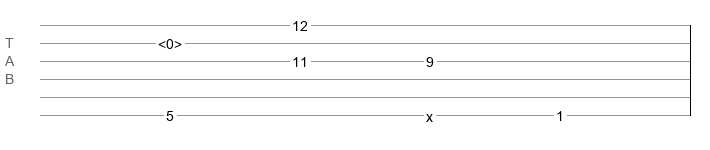1: (556, 108, 564, 118)
11: (292, 54, 308, 64)
12: (292, 18, 308, 28)
5: (166, 108, 174, 118)
9: (426, 54, 434, 64)
harmonic: (158, 36, 182, 46)
x: (426, 109, 433, 117)
